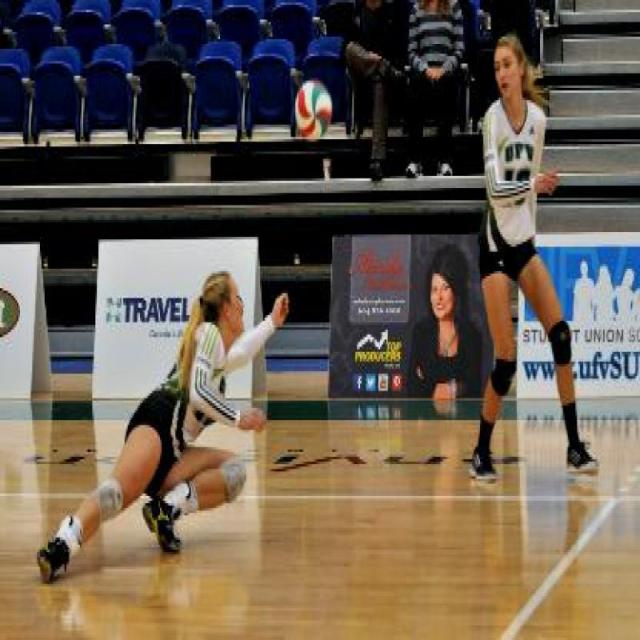volleyball: (294, 78, 332, 144)
